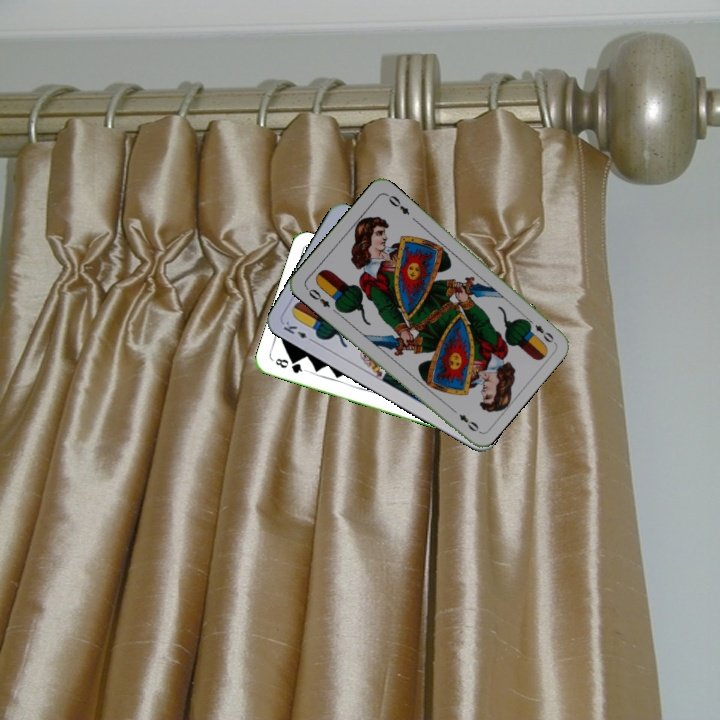EK: (279, 317, 317, 345)
EO: (522, 314, 557, 345), (302, 283, 333, 310)
G8: (271, 354, 309, 376)
